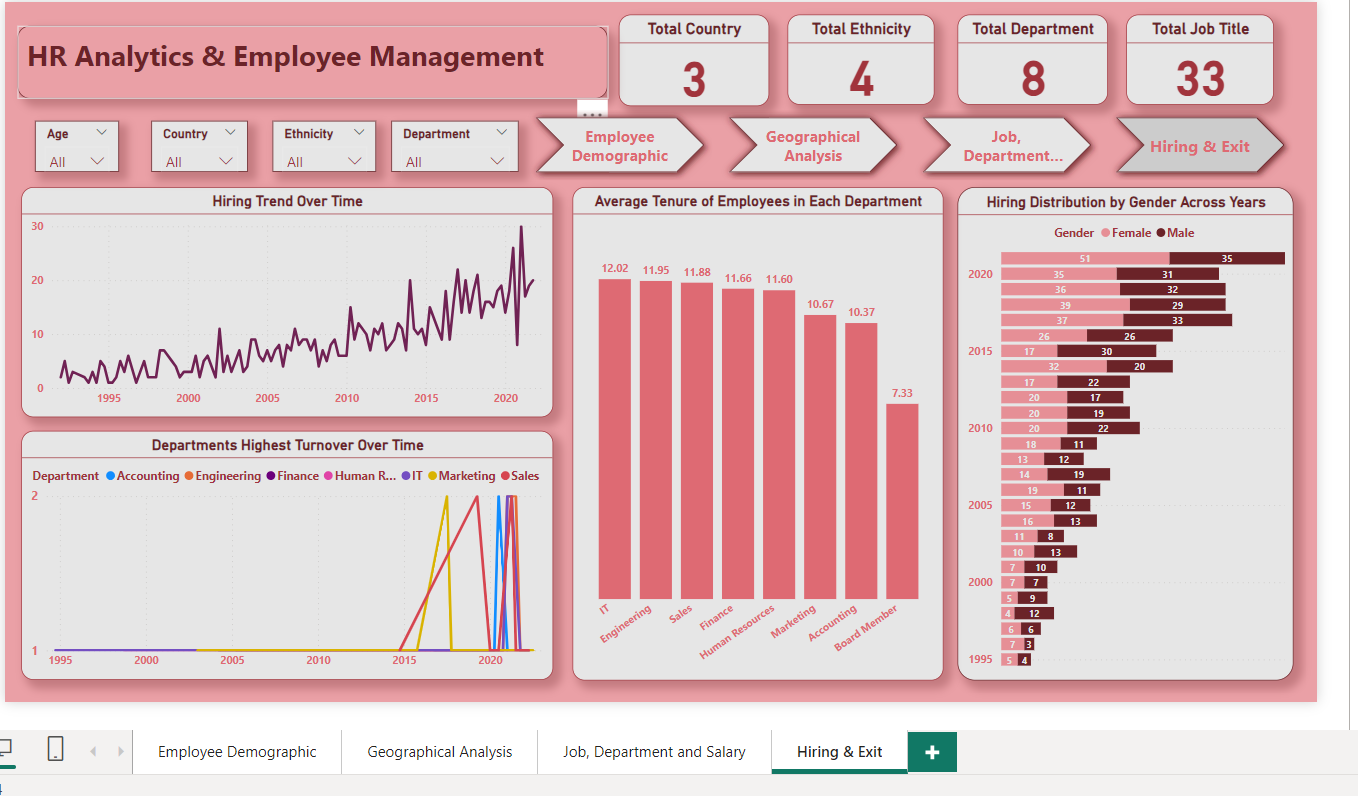

The dashboard page shown, as its layout file describes it:
{"tool":"powerbi","page":{"name":"Hiring & Exit","canvas":[1500,800],"ordinal":3},"visuals":[{"type":"lineChart","title":"Hiring Trend Over Time","fields":{"Category":["TBL_Employees.Hire Date.Variation.Date Hierarchy.Year","TBL_Employees.Hire Date.Variation.Date Hierarchy.Quarter"],"Y":["CountNonNull(TBL_Employees.Employee ID)"]},"box":[19.1,211.2,607.7,263],"z":0},{"type":"card","title":"Total Country","fields":{"Values":["Count(TBL_Employees.Country)"]},"box":[701.8,15,171.7,104.9],"z":1000},{"type":"card","title":"Total Department","fields":{"Values":["Count(TBL_Employees.Department)"]},"box":[1088.8,13.6,171.7,103.6],"z":2000},{"type":"card","title":"Total Ethnicity","fields":{"Values":["Count(TBL_Employees.Ethnicity)"]},"box":[893.9,13.6,167.6,103.6],"z":3000},{"type":"card","title":"Total Job Title","fields":{"Values":["Count(TBL_Employees.Job Title)"]},"box":[1280.9,13.6,169,103.6],"z":4000},{"type":"barChart","title":"Hiring Distribution by Gender Across Years","fields":{"Y":["CountNonNull(TBL_Employees.Employee ID)"],"Series":["TBL_Employees.Gender"],"Category":["TBL_Employees.Hire Date.Variation.Date Hierarchy.Year","TBL_Employees.Hire Date.Variation.Date Hierarchy.Quarter","TBL_Employees.Hire Date.Variation.Date Hierarchy.Month","TBL_Employees.Hire Date.Variation.Date Hierarchy.Day"]},"box":[1088.8,211.2,384.3,564.1],"z":5000},{"type":"textbox","box":[15,27.3,674.5,83.1],"z":6000},{"type":"lineChart","title":"Departments Highest Turnover Over Time","fields":{"Y":["CountNonNull(TBL_Employees.Employee ID)"],"Category":["TBL_Employees.Exit Date.Variation.Date Hierarchy.Year","TBL_Employees.Exit Date.Variation.Date Hierarchy.Quarter"],"Series":["TBL_Employees.Department"]},"box":[19.1,490.6,607.7,284.8],"z":7000},{"type":"columnChart","title":"Average Tenure of Employees in Each Department","fields":{"Category":["TBL_Employees.Department"],"Y":["Avg(TBL_Employees.Tenure)"]},"box":[648.6,211.2,423.8,564.1],"z":8000},{"type":"slicer","fields":{"Values":["TBL_Employees.Age"]},"box":[34.3,135.7,95.7,58.6],"z":9000},{"type":"slicer","fields":{"Values":["TBL_Employees.Country"]},"box":[167.1,135.7,110,58.6],"z":10000},{"type":"slicer","fields":{"Values":["TBL_Employees.Department"]},"box":[441.4,135.7,145.7,58.6],"z":11000},{"type":"slicer","fields":{"Values":["TBL_Employees.Ethnicity"]},"box":[305.7,135.7,118.6,58.6],"z":12000},{"type":"pageNavigator","box":[597.1,122.9,875.7,81.4],"z":13000}]}

Visuals, with their boxes on the page's 1500x800 design canvas (x1, y1, x2, y2). These are canvas units, not pixel positions in the 1358x796 screenshot, which may show the page scaled, cropped or inside an application window:
"Hiring Trend Over Time" lineChart: pyautogui.locateOnScreen(19, 211, 627, 474)
"Total Country" card: pyautogui.locateOnScreen(702, 15, 874, 120)
"Total Department" card: pyautogui.locateOnScreen(1089, 14, 1260, 117)
"Total Ethnicity" card: pyautogui.locateOnScreen(894, 14, 1062, 117)
"Total Job Title" card: pyautogui.locateOnScreen(1281, 14, 1450, 117)
"Hiring Distribution by Gender Across Years" barChart: pyautogui.locateOnScreen(1089, 211, 1473, 775)
textbox: pyautogui.locateOnScreen(15, 27, 690, 110)
"Departments Highest Turnover Over Time" lineChart: pyautogui.locateOnScreen(19, 491, 627, 775)
"Average Tenure of Employees in Each Department" columnChart: pyautogui.locateOnScreen(649, 211, 1072, 775)
slicer - TBL_Employees.Age: pyautogui.locateOnScreen(34, 136, 130, 194)
slicer - TBL_Employees.Country: pyautogui.locateOnScreen(167, 136, 277, 194)
slicer - TBL_Employees.Department: pyautogui.locateOnScreen(441, 136, 587, 194)
slicer - TBL_Employees.Ethnicity: pyautogui.locateOnScreen(306, 136, 424, 194)
pageNavigator: pyautogui.locateOnScreen(597, 123, 1473, 204)
